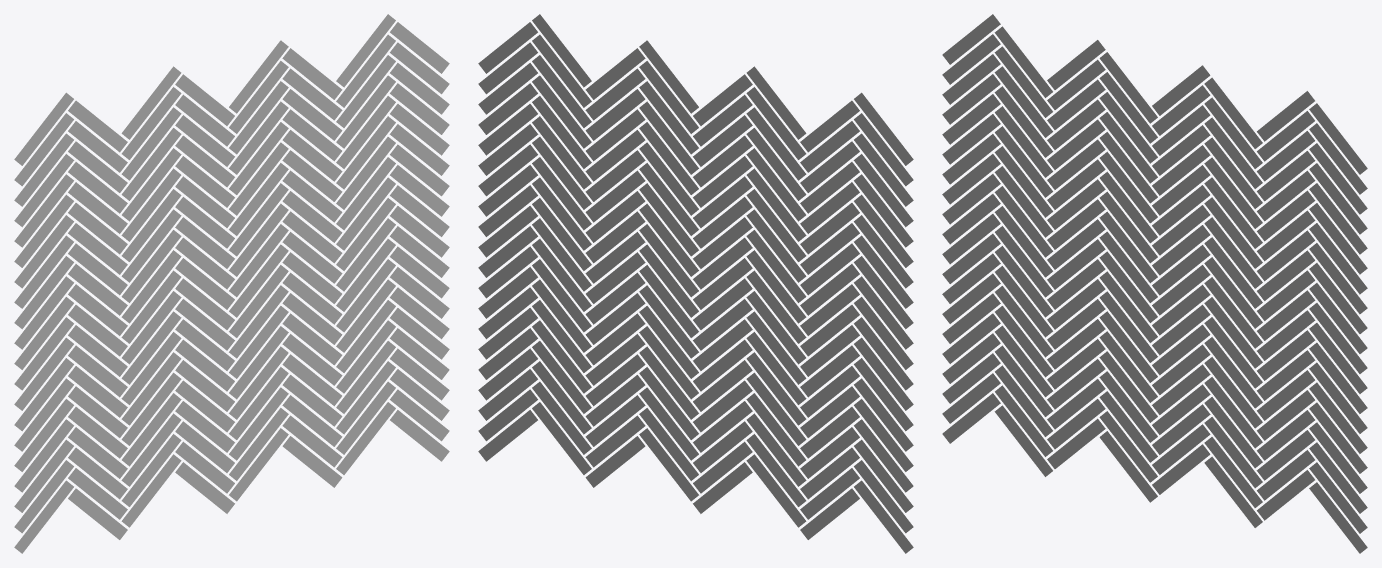
File: chevronxs.gltf
The picture shows the model from 3 angles, left to right: view 1: azimuth 30°, elevation 25°; view 2: azimuth 150°, elevation 25°; view 3: azimuth 330°, elevation 25°; orthographic projection. The views are drawn at different scales.
Visible parts, largest first — view 1: chevronxs1; view 2: chevronxs1; view 3: chevronxs1.
Boxes of the visible parts, bbox=[...] form: chevronxs1: bbox=[14, 14, 449, 553]; chevronxs1: bbox=[478, 14, 913, 553]; chevronxs1: bbox=[942, 14, 1367, 553].
Size of the model in its own units: 301 by 304 by 2.66e-05.
Materials: 160 (160 with a texture image).
